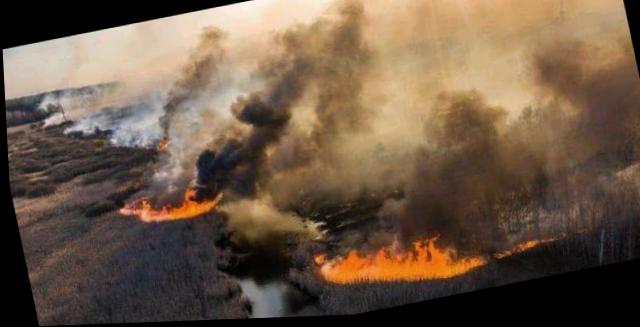fire: (303, 208, 558, 303), (112, 164, 225, 232), (147, 130, 169, 153)
